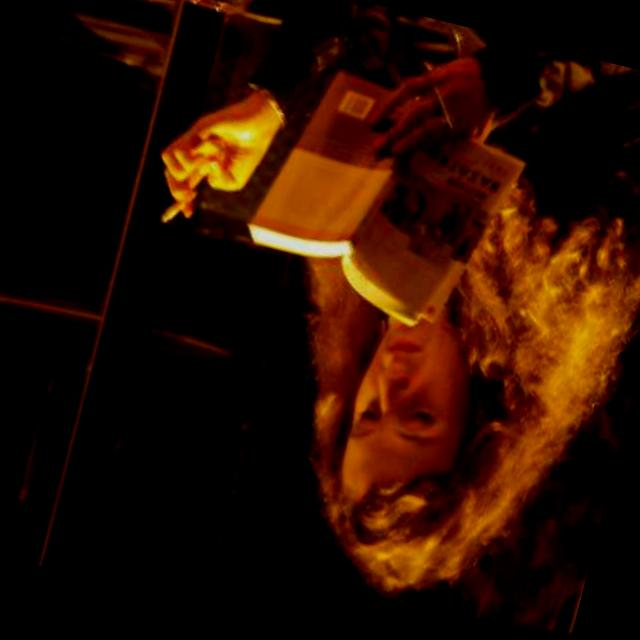cigarette: (152, 172, 203, 243)
